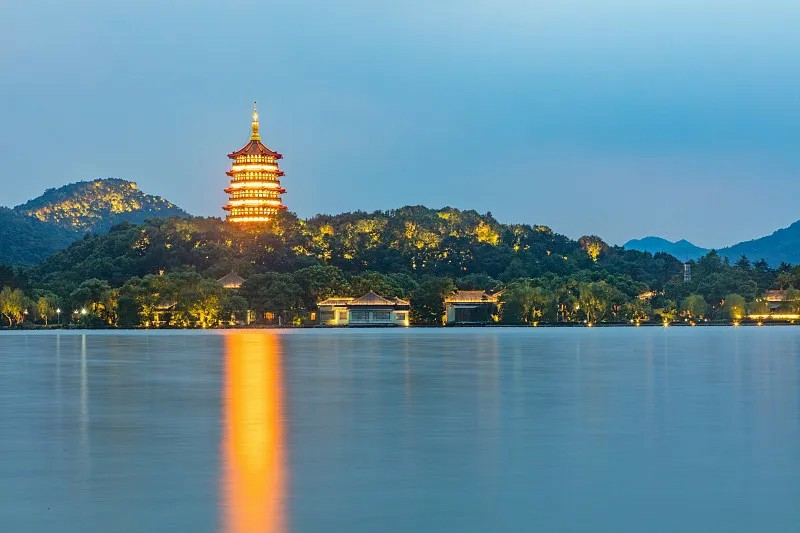Leifeng: (220, 100, 290, 226)
